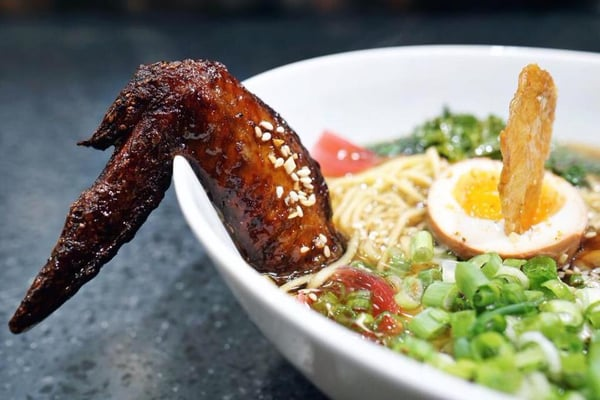curry: (384, 105, 507, 162)
sushi: (170, 60, 599, 394)
